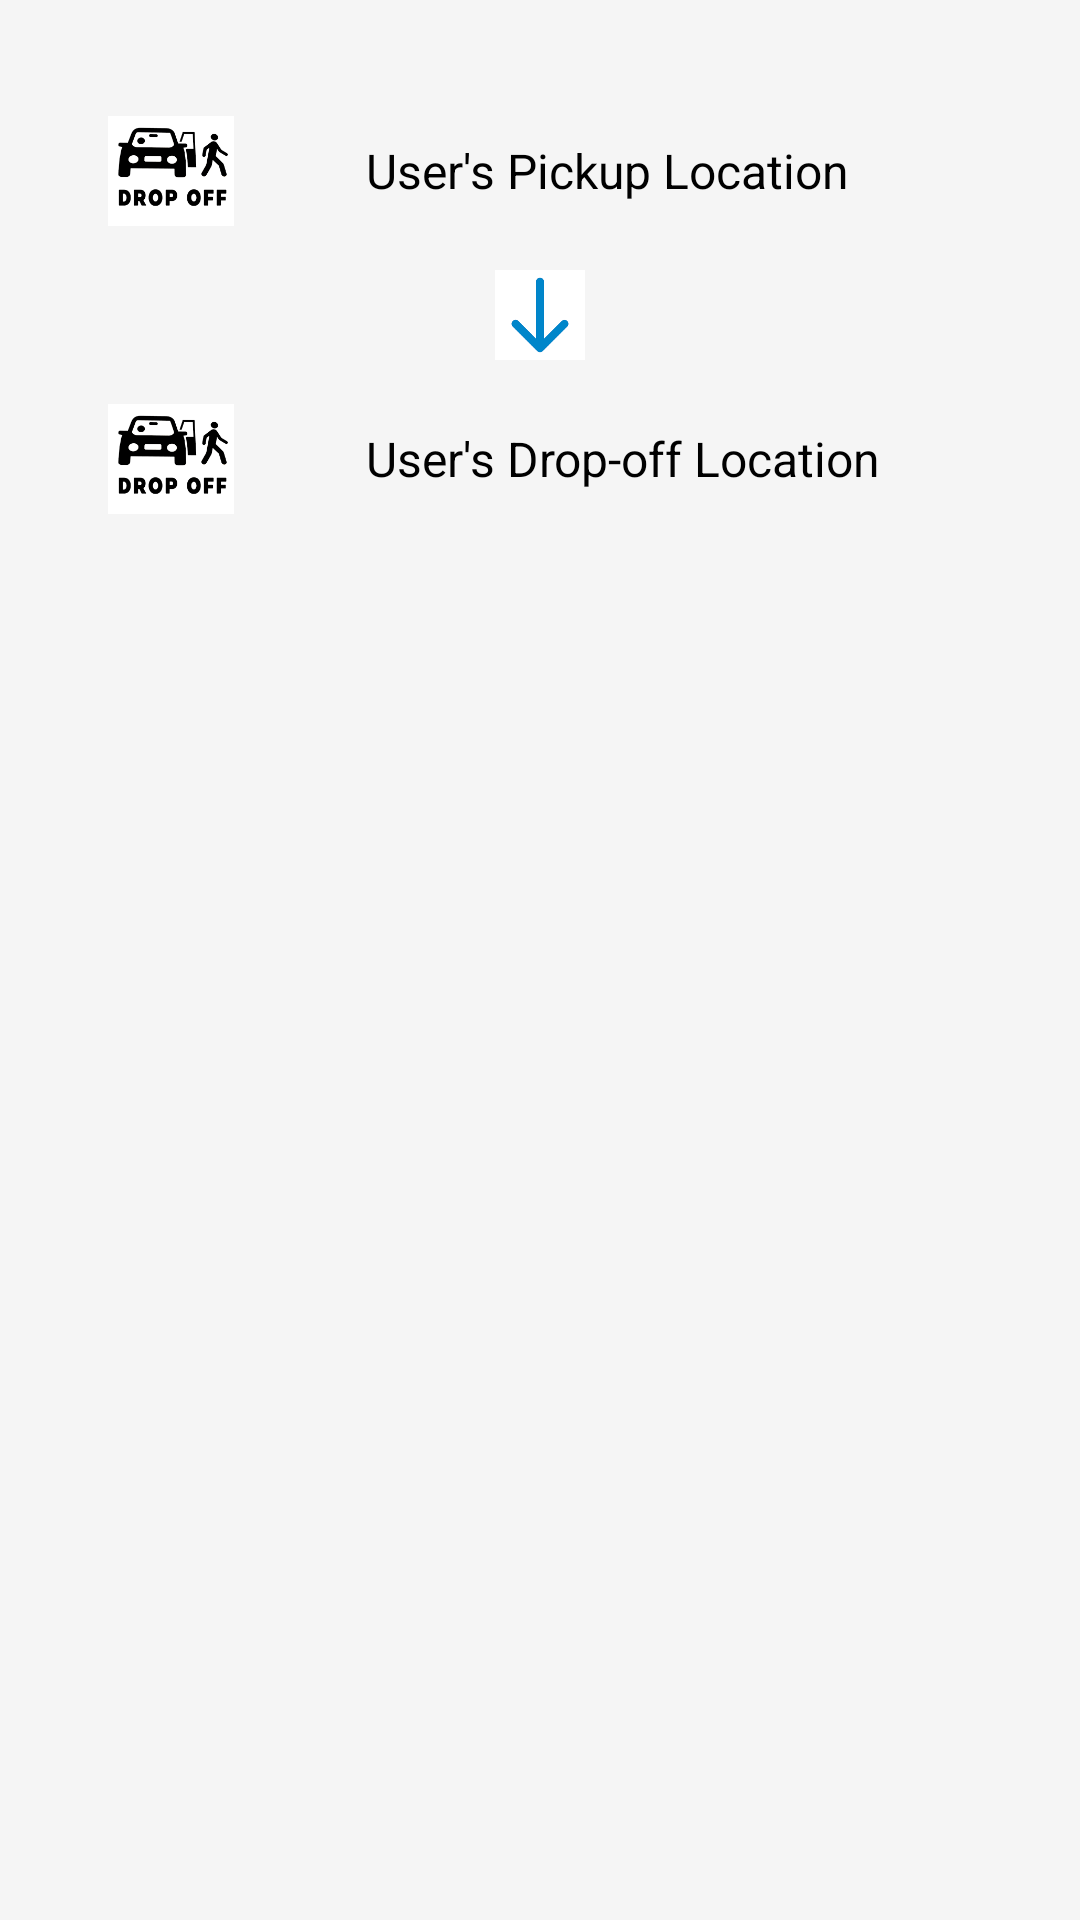

Where to tap for icons on this 1080w x 1920h app screen, as (x,y):
arrow: (540,315)
